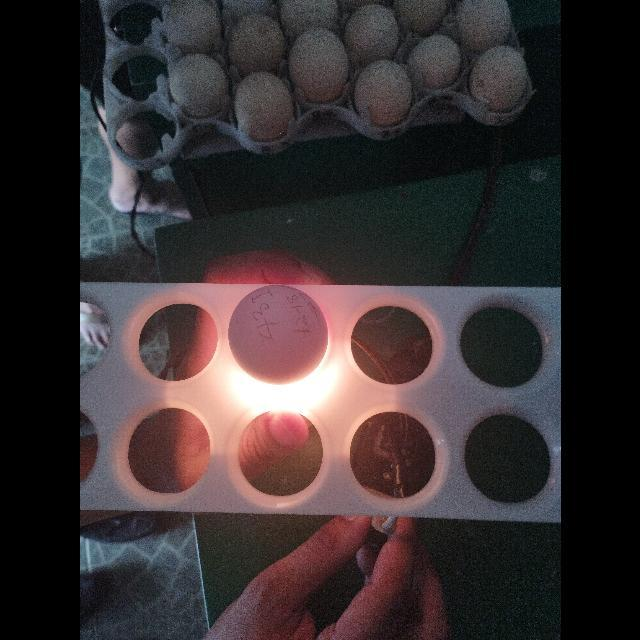Fertile: (227, 284, 329, 386)
